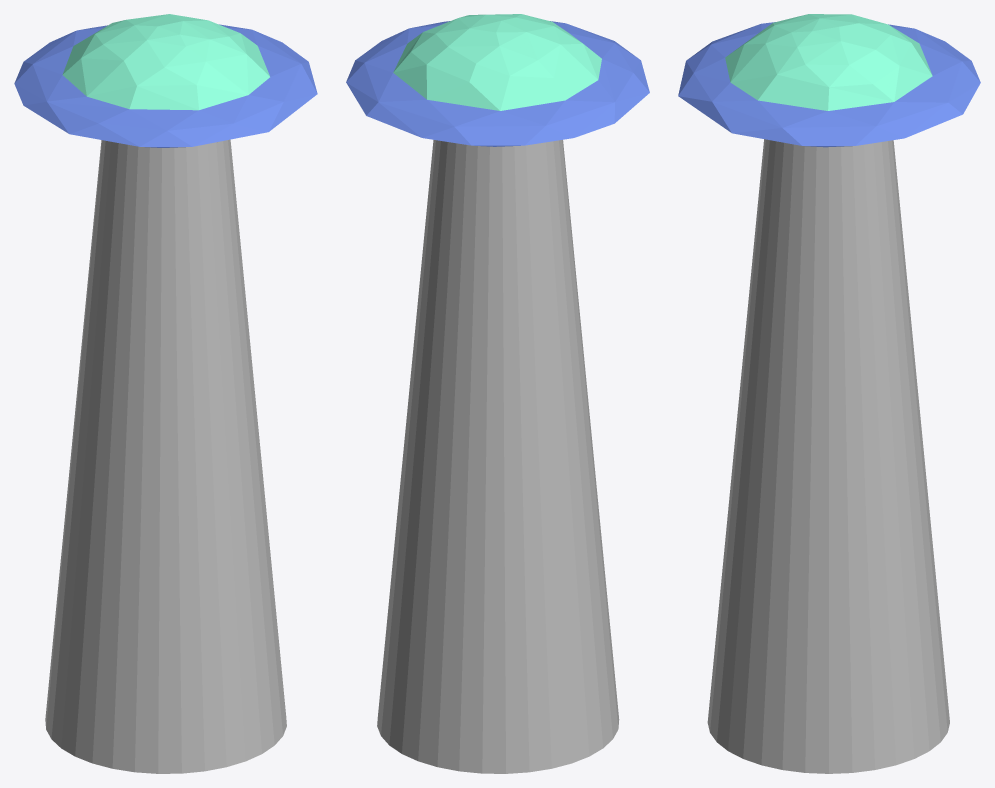
The model's file is UFO.fbx.
3 renders of one model, left to right at view 1: azimuth 30°, elevation 25°; view 2: azimuth 150°, elevation 25°; view 3: azimuth 270°, elevation 25°, orthographic.
Parts seen in each view (by area): view 1: Light, UFO; view 2: Light, UFO; view 3: Light, UFO.
Boxes of the visible parts, x1,y1,x2,y2 form: Light: (45, 139, 286, 773); UFO: (14, 14, 317, 147); Light: (377, 140, 619, 773); UFO: (346, 14, 649, 146); Light: (707, 139, 949, 773); UFO: (678, 14, 980, 147).
Size of the model in its own units: 182 by 466 by 184.
